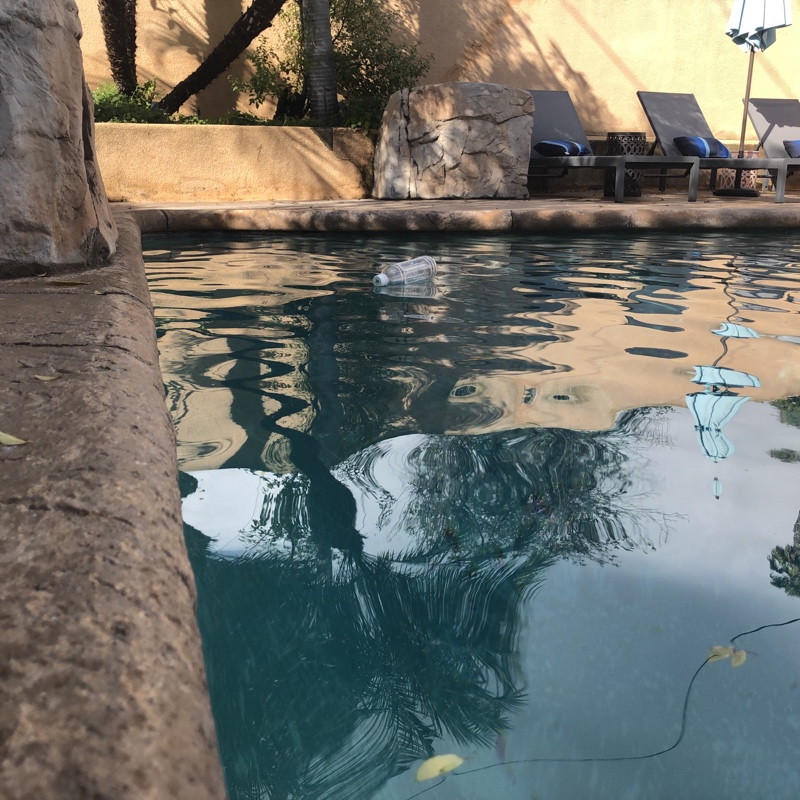Plastic Bottle: (368, 251, 446, 292)
